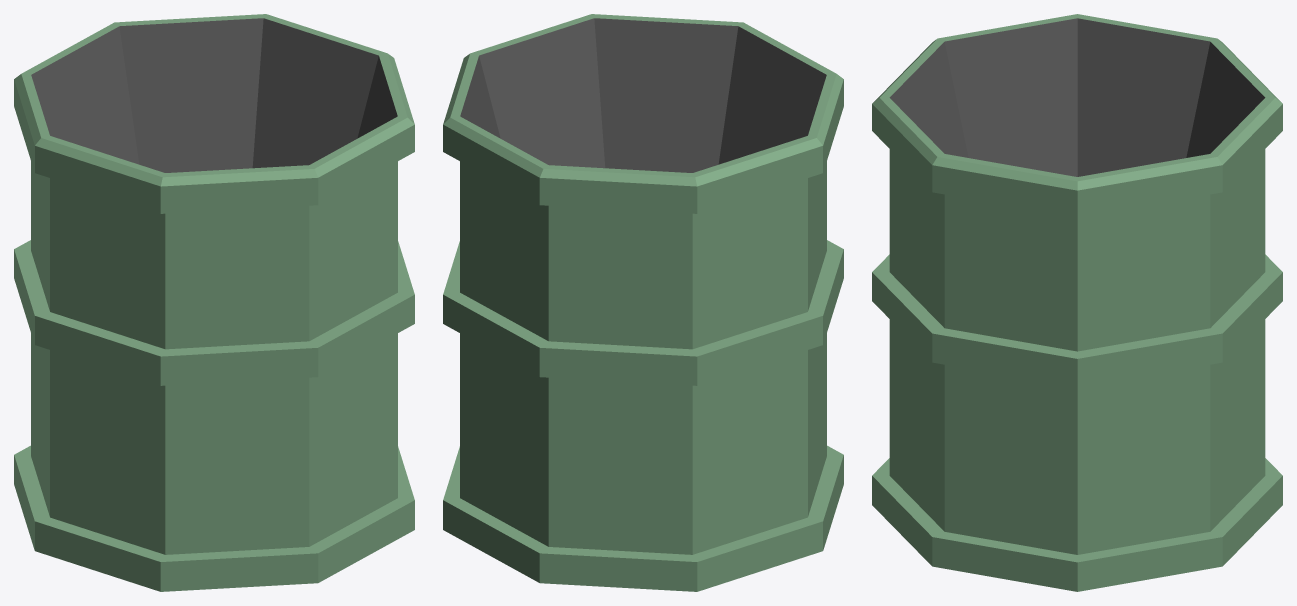
File: Barrel.fbx
3 renders of one model, left to right at view 1: azimuth 30°, elevation 25°; view 2: azimuth 150°, elevation 25°; view 3: azimuth 270°, elevation 25°, orthographic.
Parts seen in each view (by area): view 1: Barrel; view 2: Barrel; view 3: Barrel.
Boxes of the visible parts, left/top/right/bottom form: Barrel: left=14, top=14, right=414, bottom=591; Barrel: left=443, top=14, right=843, bottom=591; Barrel: left=872, top=14, right=1282, bottom=591.
Bounding box in the file's own units: 2.19 × 2.39 × 2.19.
